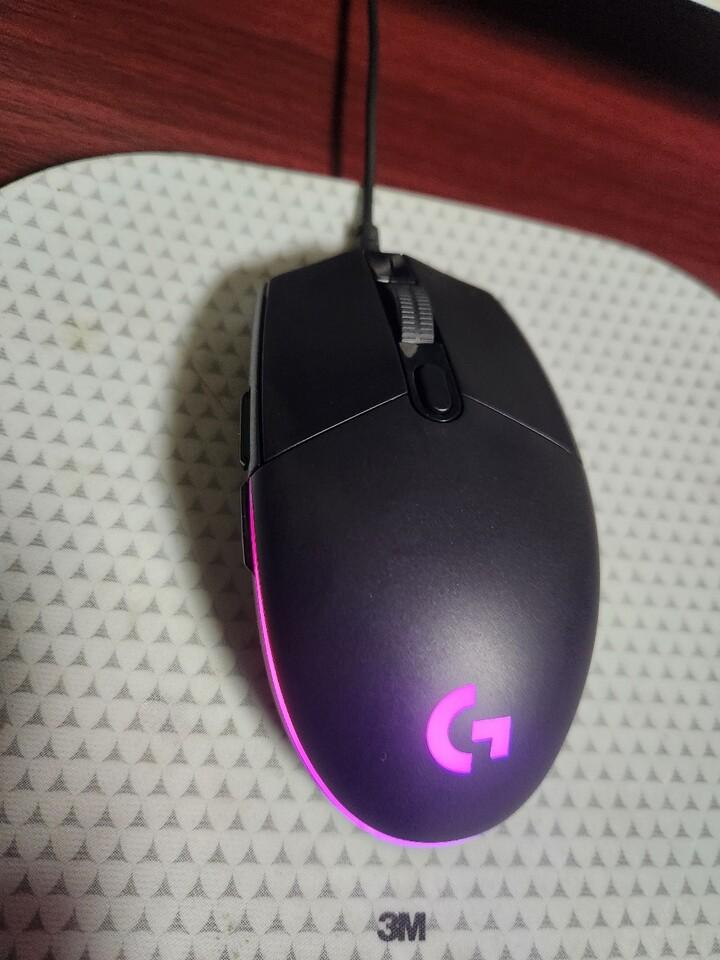mouse: (238, 245, 601, 848)
